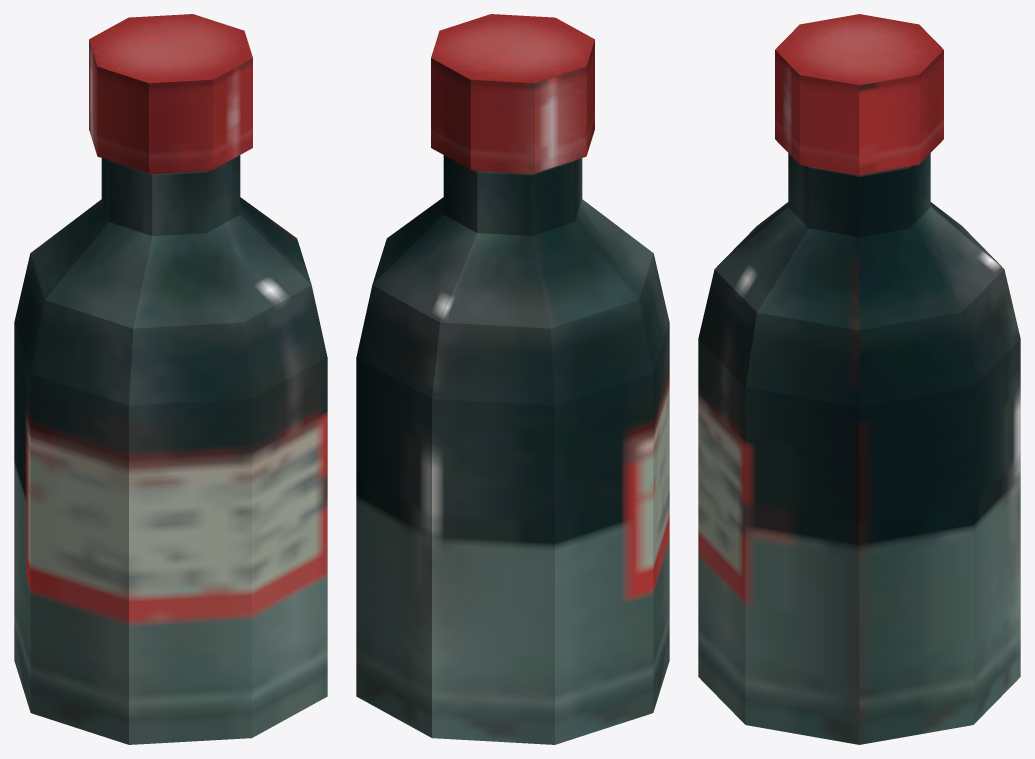
Rendered from jar_3.fbx.
The picture shows the model from 3 angles, left to right: view 1: azimuth 30°, elevation 25°; view 2: azimuth 150°, elevation 25°; view 3: azimuth 270°, elevation 25°; orthographic projection.
Parts seen in each view (by area): view 1: mesh_0; view 2: mesh_0; view 3: mesh_0.
Boxes of the visible parts, box(x1,y1,x2,y2) form: mesh_0: box(14, 14, 327, 744); mesh_0: box(356, 14, 669, 744); mesh_0: box(698, 14, 1020, 744).
Size of the model in its own units: 7.6 by 16.3 by 7.6.
1 material, 1 textured.
